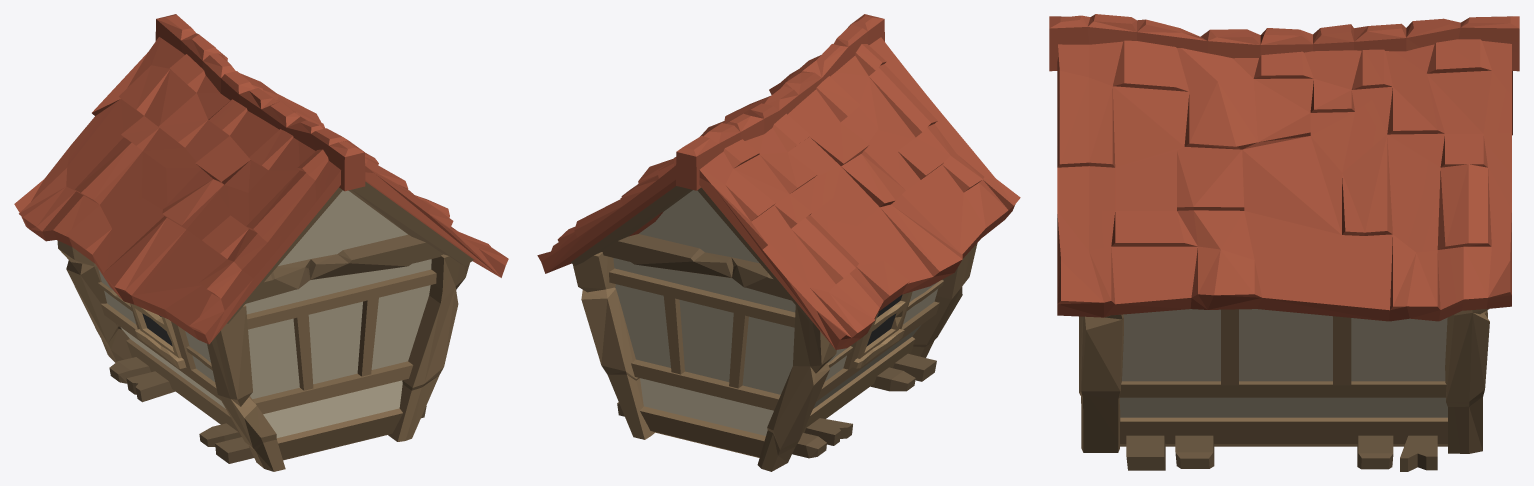
Rendered from SM_Bld_House_TopRoomSmall_04.glb.
3 renders of one model, left to right at view 1: azimuth 30°, elevation 25°; view 2: azimuth 150°, elevation 25°; view 3: azimuth 270°, elevation 25°, orthographic. The views are drawn at different scales.
Visible parts, largest first — view 1: SM_Bld_House_TopRoomSmall_04; view 2: SM_Bld_House_TopRoomSmall_04; view 3: SM_Bld_House_TopRoomSmall_04.
Part boxes in pixels (left/top/right/bottom): SM_Bld_House_TopRoomSmall_04: left=14, top=14, right=508, bottom=471; SM_Bld_House_TopRoomSmall_04: left=537, top=14, right=1020, bottom=471; SM_Bld_House_TopRoomSmall_04: left=1049, top=14, right=1519, bottom=471.
Size of the model in its own units: 4.68 by 4.29 by 4.67.
Materials: 1 (1 with a texture image).
